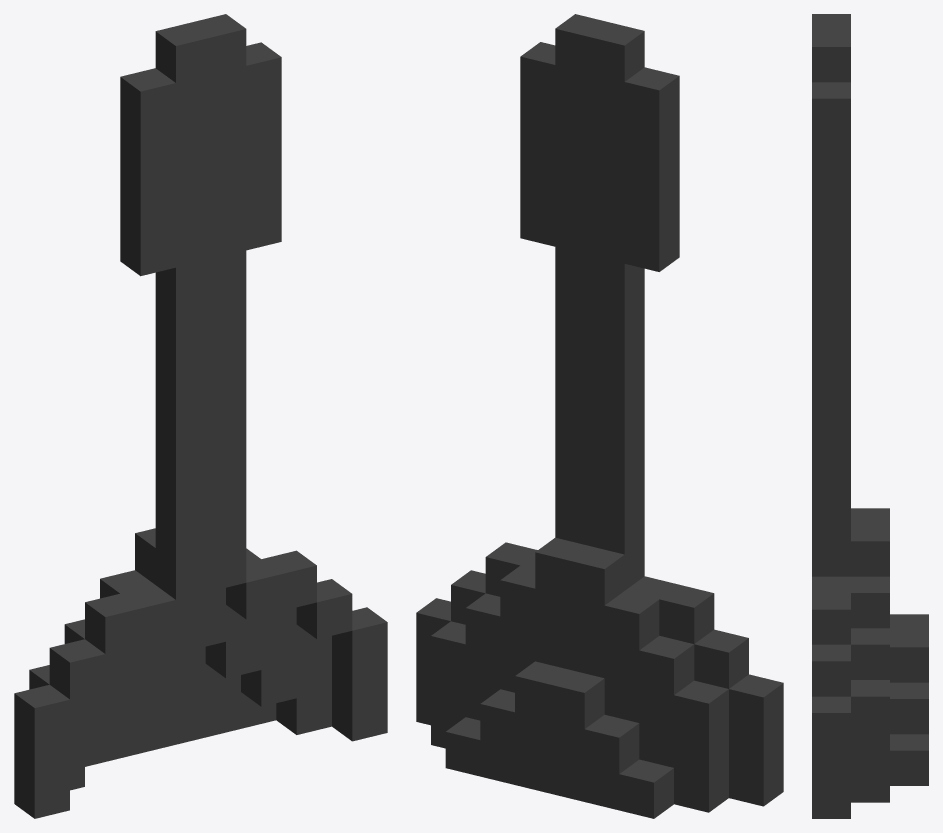
File: Spoon.obj
3 views of the same model, side by side, from view 1: azimuth 30°, elevation 25°; view 2: azimuth 150°, elevation 25°; view 3: azimuth 270°, elevation 25° (orthographic). The views are drawn at different scales.
Size of the model in its own units: 1 by 2 by 0.3.
1 material, 1 textured.
